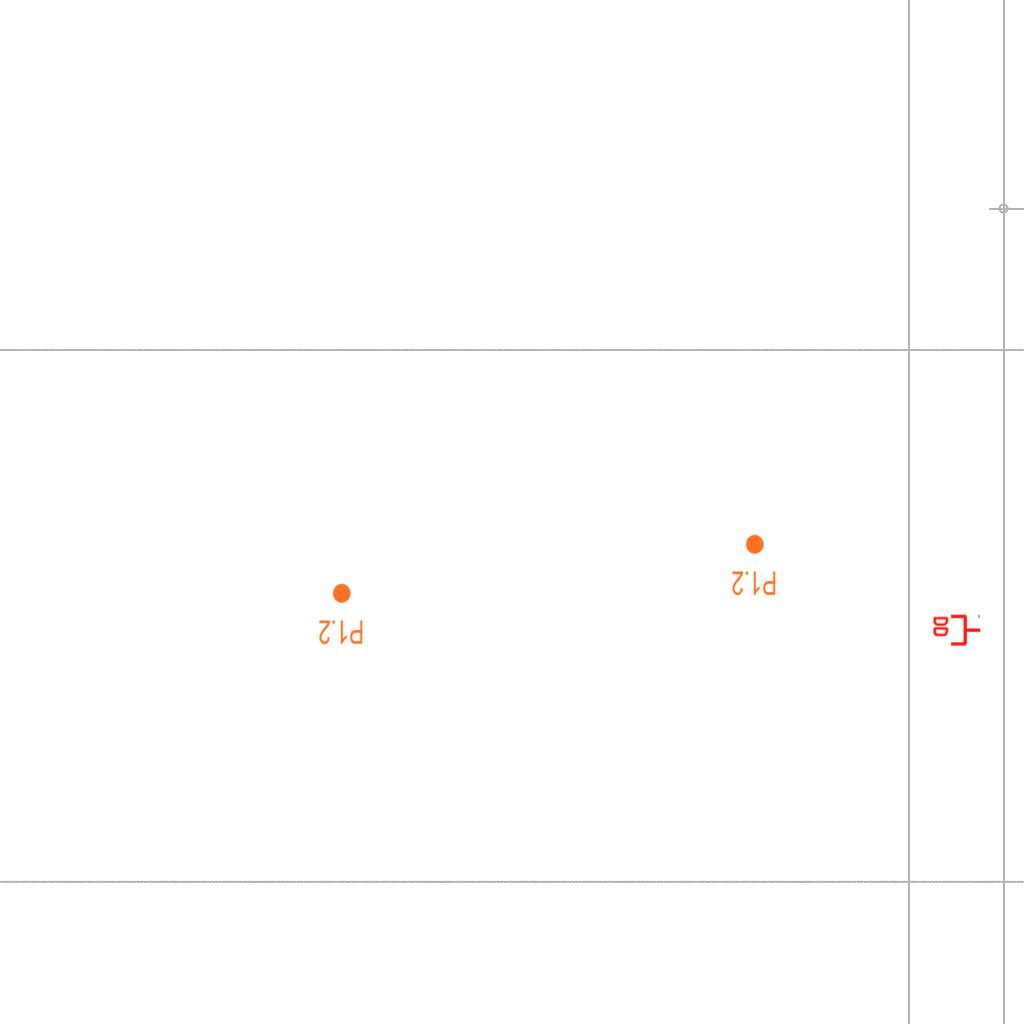Datenanschluss_zweifach: (931, 614, 982, 648)
Downlight_LED_Einbauleuchten_Flur: (318, 582, 364, 646), (731, 533, 777, 597)
